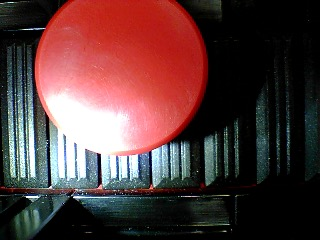BLANK: (34, 1, 208, 156)
